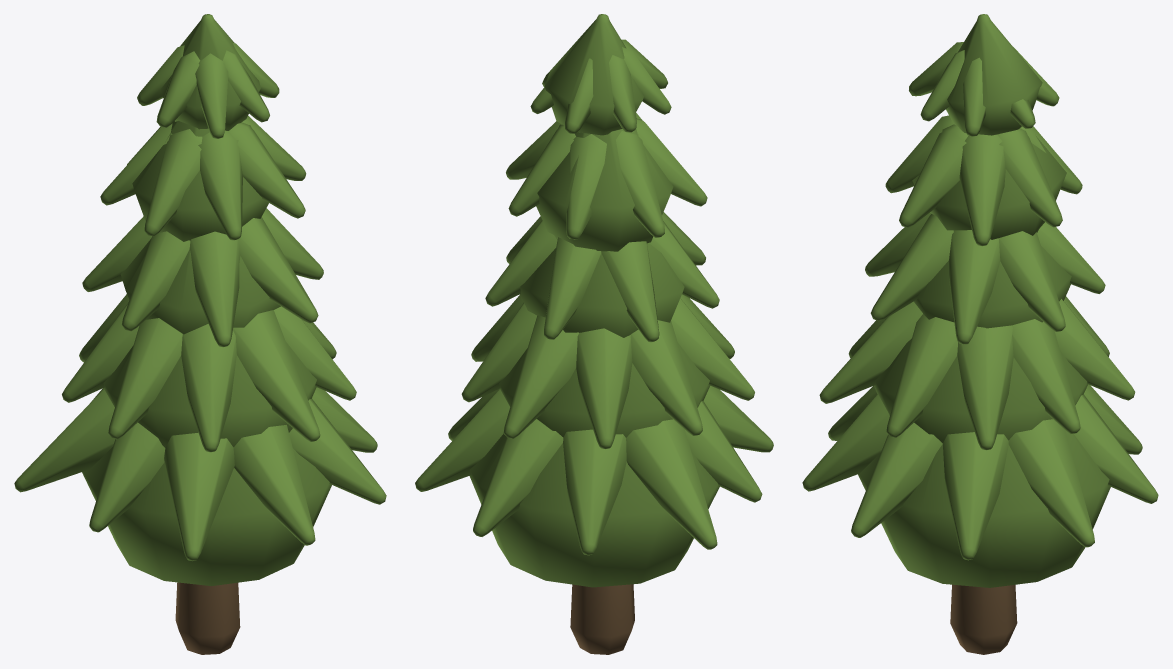
The model's file is prop_pine1_9816.glb.
3 renders of one model, left to right at view 1: azimuth 30°, elevation 25°; view 2: azimuth 150°, elevation 25°; view 3: azimuth 270°, elevation 25°, orthographic.
Visible parts, largest first — view 1: prop_pine1_9816; view 2: prop_pine1_9816; view 3: prop_pine1_9816.
Part boxes in pixels (x1,y1,x2,y2): prop_pine1_9816: (14, 14, 386, 654); prop_pine1_9816: (415, 14, 773, 654); prop_pine1_9816: (802, 14, 1158, 654).
Bounding box in the file's own units: 1.34 × 2.61 × 1.32.
Materials: 1 (1 with a texture image).
